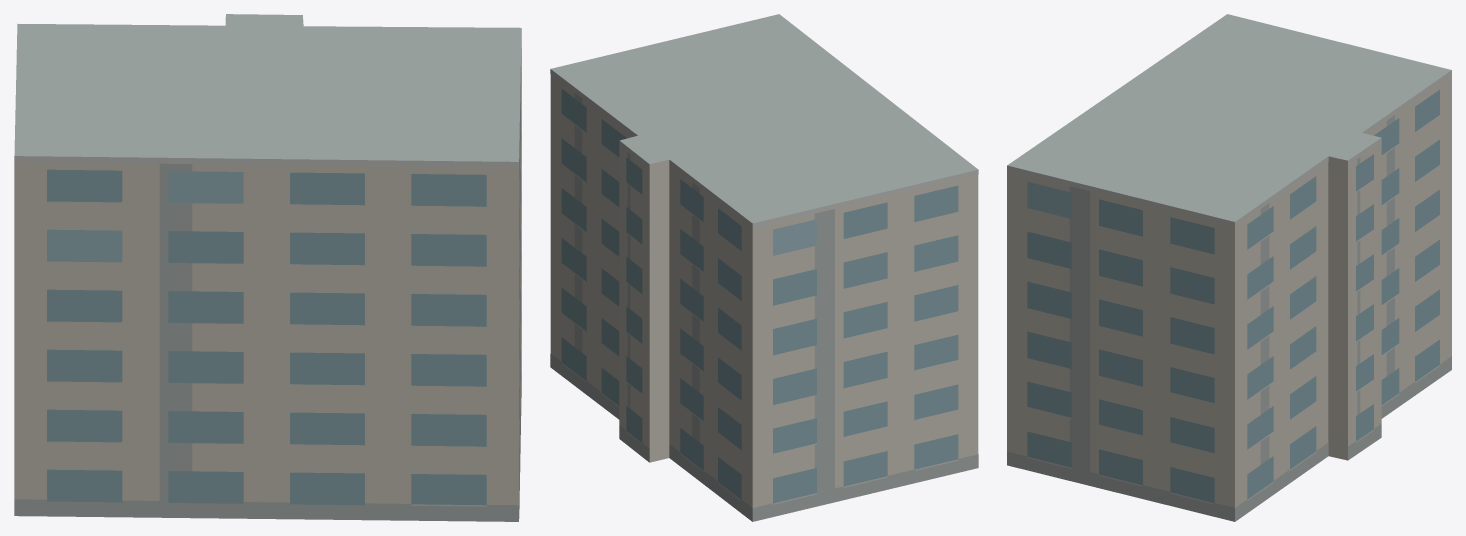
File: survey-upis-32907945.glb
3 renders of one model, left to right at view 1: azimuth 30°, elevation 25°; view 2: azimuth 150°, elevation 25°; view 3: azimuth 270°, elevation 25°, orthographic. The views are drawn at different scales.
Parts seen in each view (by area): view 1: survey-upis-32907945.tmp; view 2: survey-upis-32907945.tmp; view 3: survey-upis-32907945.tmp.
Part boxes in pixels (x1,y1,x2,y2): survey-upis-32907945.tmp: (14,14,521,521); survey-upis-32907945.tmp: (550,14,978,521); survey-upis-32907945.tmp: (1007,14,1451,521).
Size of the model in its own units: 21.73 by 14.6 by 19.63.
